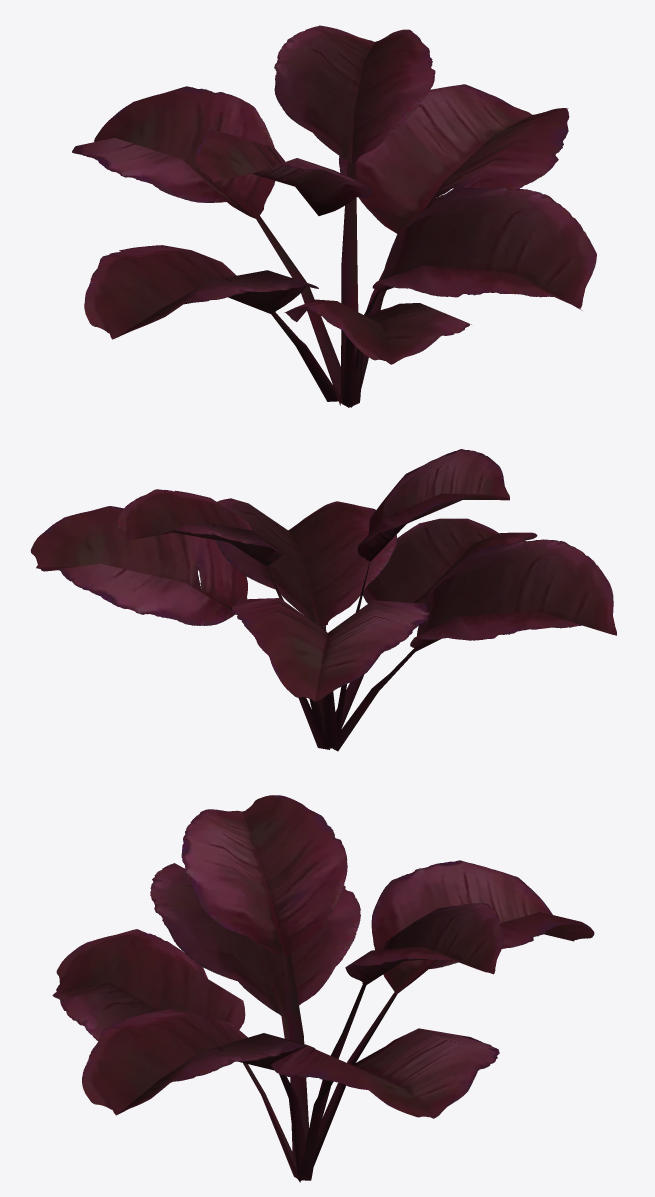
3 views of the same model, one above another, from view 1: azimuth 30°, elevation 25°; view 2: azimuth 150°, elevation 25°; view 3: azimuth 270°, elevation 25° (orthographic). The views are drawn at different scales.
Parts seen in each view (by area): view 1: body0_model0_lod0_mesh0; view 2: body0_model0_lod0_mesh0; view 3: body0_model0_lod0_mesh0.
Part boxes in pixels (<box>): body0_model0_lod0_mesh0: <box>72,25,596,407</box>; body0_model0_lod0_mesh0: <box>30,449,616,751</box>; body0_model0_lod0_mesh0: <box>52,795,594,1182</box>.
Size of the model in its own units: 123 by 59.65 by 109.
1 material, 1 textured.
